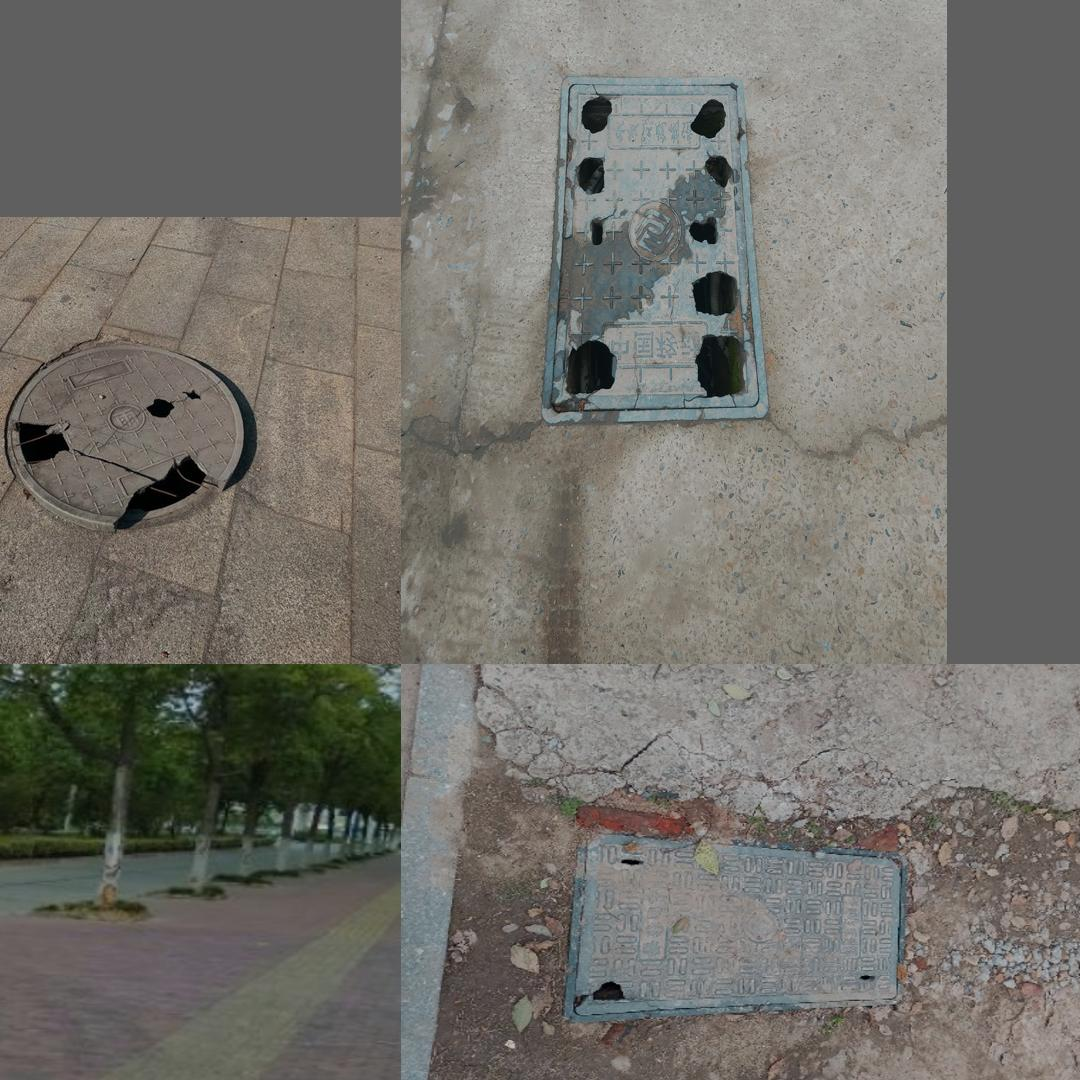broke: (540, 77, 769, 426), (561, 832, 907, 1021), (0, 326, 265, 536)
